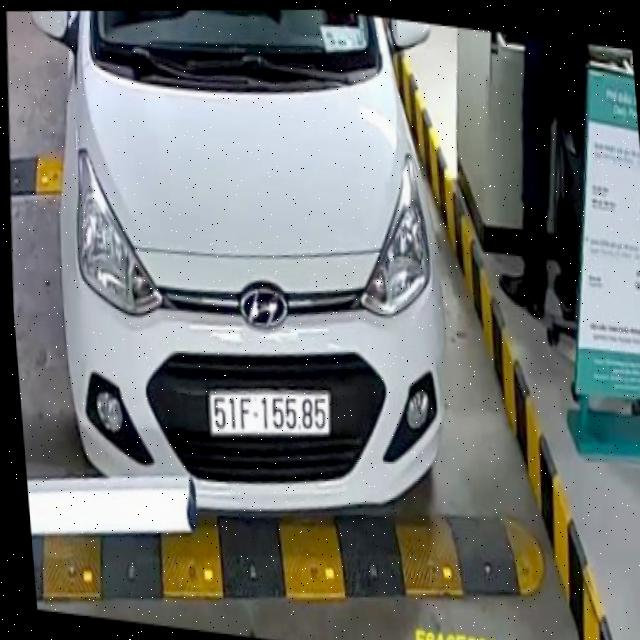car: (21, 1, 475, 531)
plate: (202, 378, 335, 447)
